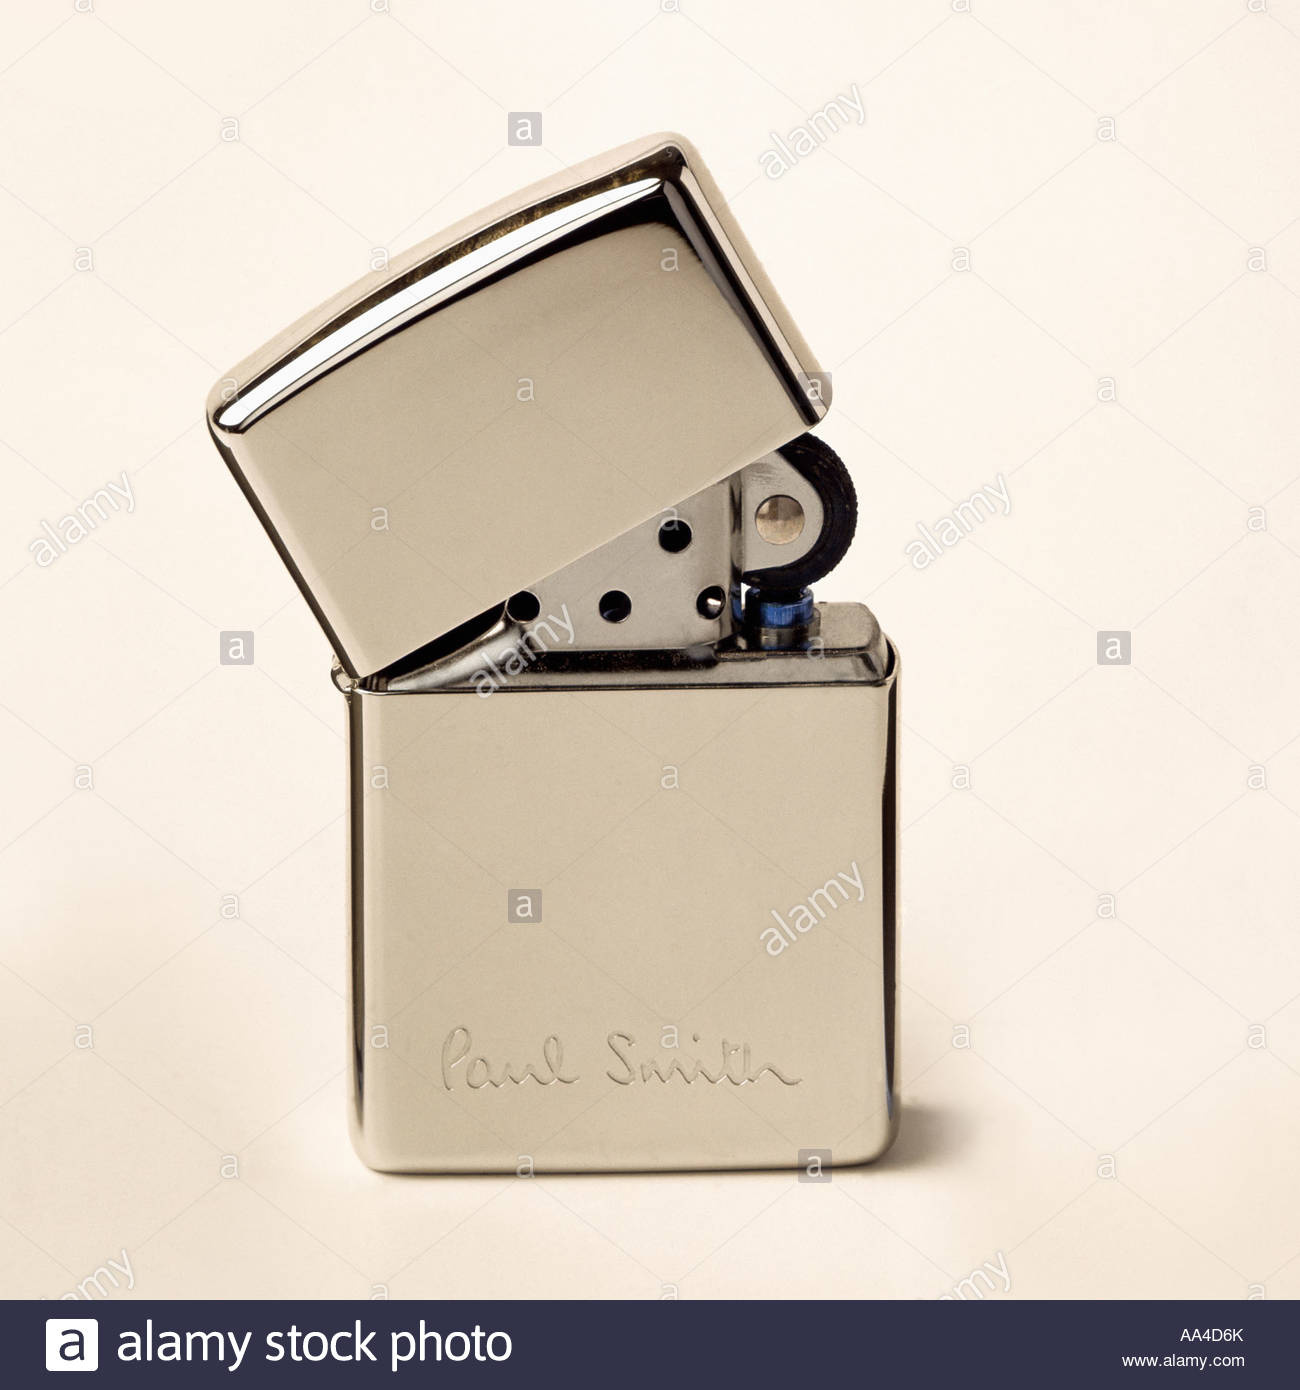Nonrec_Other: (175, 139, 933, 1177)
